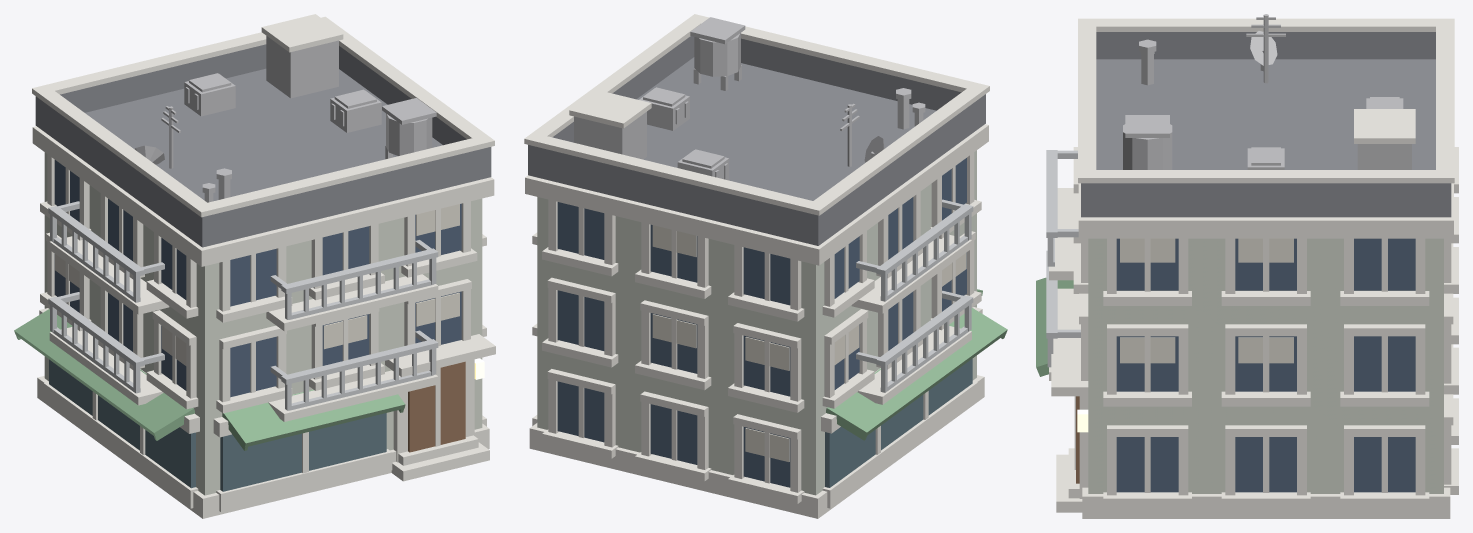
File: bld_2_2.glb
The picture shows the model from 3 angles, left to right: view 1: azimuth 30°, elevation 25°; view 2: azimuth 150°, elevation 25°; view 3: azimuth 270°, elevation 25°; orthographic projection. The views are drawn at different scales.
Parts seen in each view (by area): view 1: trim, rf, w, rail, win, ac, shop, awn, door, blind; view 2: trim, rf, w, win, ac, rail, blind, awn, shop; view 3: trim, rf, w, win, ac, blind, rail, awn.
Part boxes in pixels (x1,y1,x2,y2): trim: (32, 14, 495, 518); rf: (35, 44, 491, 247); w: (44, 152, 482, 495); rail: (48, 201, 438, 410); win: (54, 160, 461, 397); ac: (135, 36, 436, 202); shop: (49, 359, 386, 491); awn: (14, 309, 405, 450); door: (408, 361, 465, 452); blind: (55, 204, 459, 365); trim: (524, 14, 989, 518); rf: (528, 36, 985, 245); w: (537, 150, 976, 495); win: (557, 158, 966, 487); ac: (574, 17, 925, 180); rail: (856, 199, 973, 392); blind: (652, 225, 966, 461); awn: (826, 289, 1007, 440); shop: (825, 358, 972, 487); trim: (1049, 18, 1458, 518); rf: (1081, 32, 1451, 217); w: (1088, 238, 1443, 493); win: (1116, 238, 1415, 492); ac: (1123, 14, 1411, 169); blind: (1120, 238, 1293, 363); rail: (1046, 150, 1080, 367); awn: (1036, 277, 1073, 376).
Size of the model in its own units: 3.42 by 3.36 by 3.42.
